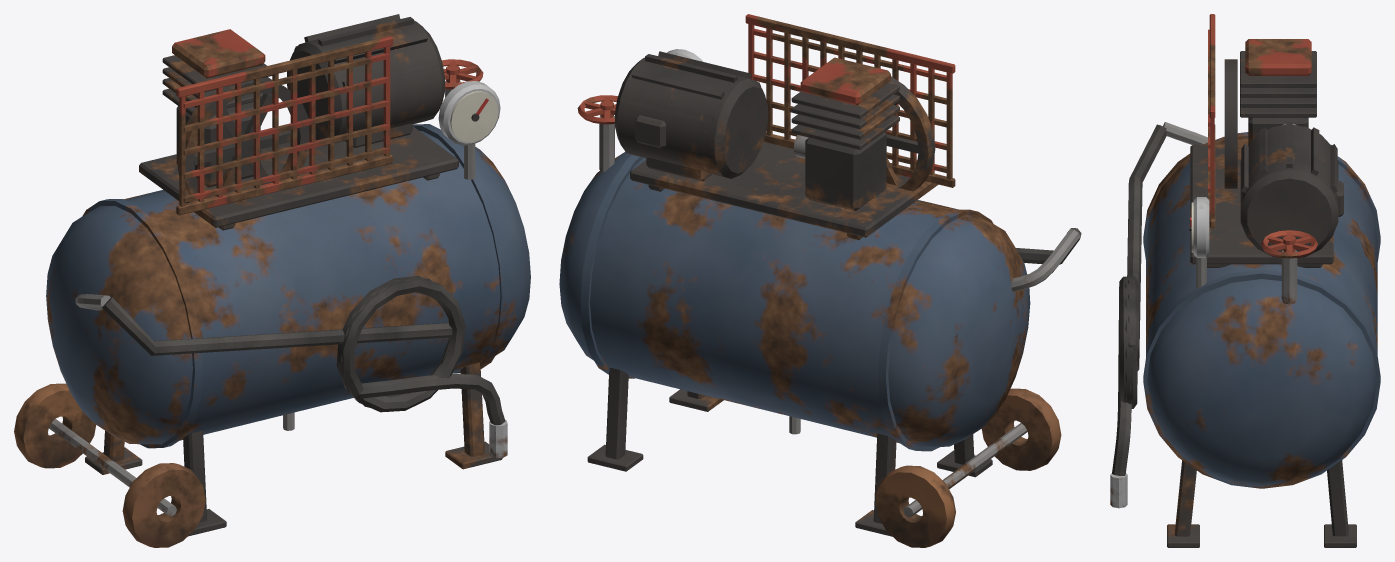
File: AirCompressor.fbx
3 views of the same model, side by side, from view 1: azimuth 30°, elevation 25°; view 2: azimuth 150°, elevation 25°; view 3: azimuth 270°, elevation 25° (orthographic). The views are drawn at different scales.
Visible parts, largest first — view 1: AirCompressor, ReliefValve; view 2: AirCompressor, ReliefValve; view 3: AirCompressor, ReliefValve.
Boxes of the visible parts, left/top/right/bottom form: AirCompressor: left=14, top=14, right=530, bottom=547; ReliefValve: left=442, top=59, right=483, bottom=89; AirCompressor: left=559, top=14, right=1081, bottom=547; ReliefValve: left=577, top=95, right=617, bottom=124; AirCompressor: left=1110, top=14, right=1380, bottom=547; ReliefValve: left=1261, top=230, right=1317, bottom=258.
Size of the model in its own units: 125 by 112 by 68.88.
Materials: 1 (1 with a texture image).
